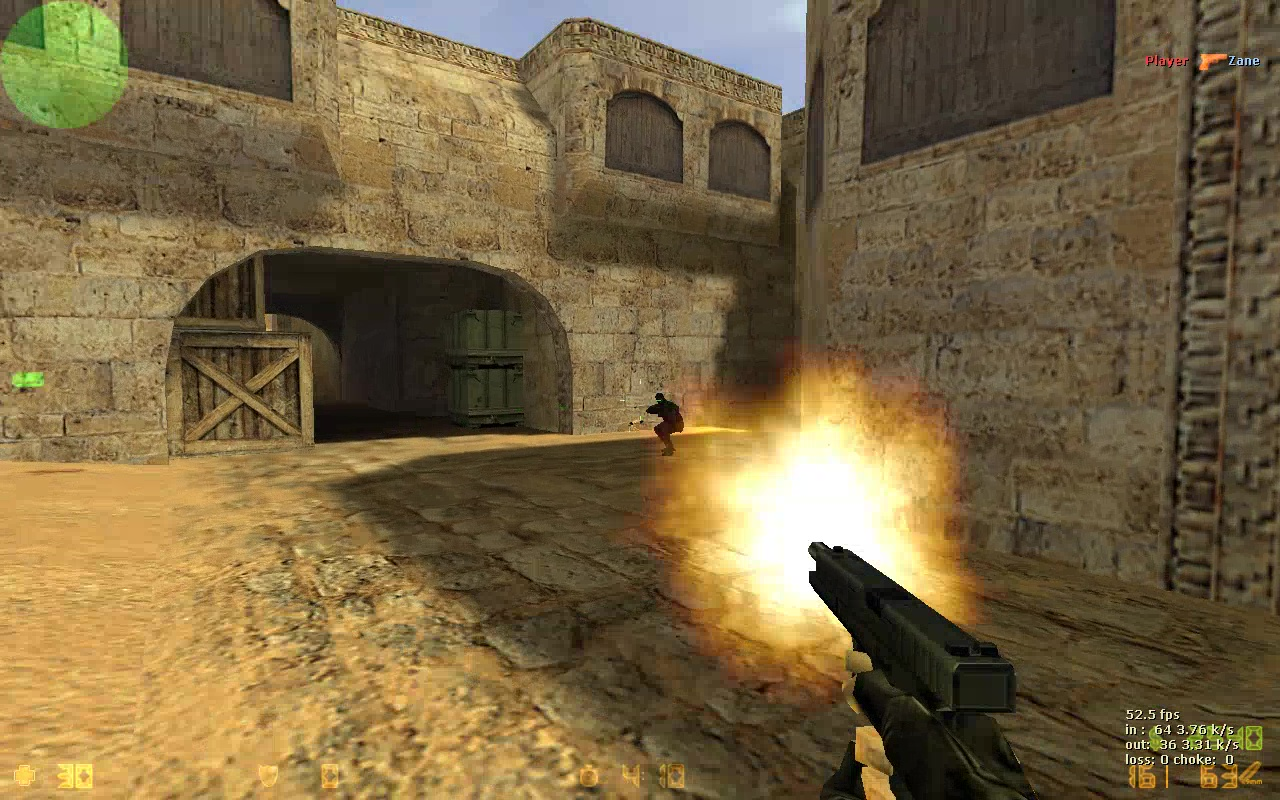ct: (644, 392, 688, 457)
